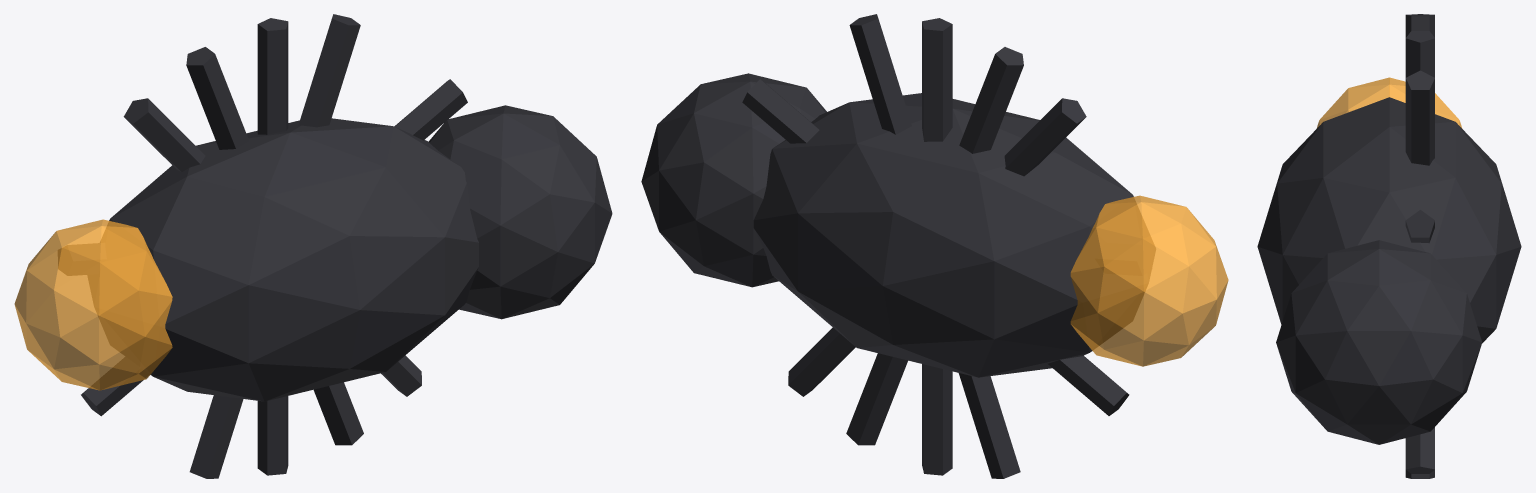
Rendered from swamp_firefly_insect.glb.
3 renders of one model, left to right at view 1: azimuth 30°, elevation 25°; view 2: azimuth 150°, elevation 25°; view 3: azimuth 270°, elevation 25°, orthographic. The views are drawn at different scales.
Parts seen in each view (by area): view 1: bug_body, bug_head, glow_abdomen, leg_0, leg_4, leg_5, leg_3, leg_1, leg_2; view 2: bug_body, bug_head, glow_abdomen, leg_0, leg_4, leg_5, leg_1, leg_3, leg_2; view 3: bug_body, bug_head, leg_4, glow_abdomen, leg_0, leg_1, leg_3, leg_5.
Part boxes in pixels (<box>): bug_body: <box>88,118,478,401</box>; bug_head: <box>428,105,612,319</box>; glow_abdomen: <box>14,219,172,390</box>; leg_0: <box>257,18,288,475</box>; leg_4: <box>189,14,360,478</box>; leg_5: <box>186,47,363,445</box>; leg_3: <box>81,79,467,416</box>; leg_1: <box>123,98,421,396</box>; leg_2: <box>58,243,106,275</box>; bug_body: <box>753,93,1155,377</box>; bug_head: <box>641,73,826,287</box>; glow_abdomen: <box>1070,195,1228,366</box>; leg_0: <box>922,18,952,475</box>; leg_4: <box>849,14,1020,478</box>; leg_5: <box>846,47,1023,445</box>; leg_1: <box>788,98,1086,396</box>; leg_3: <box>742,79,1129,415</box>; leg_2: <box>1095,243,1151,275</box>; bug_body: <box>1257,97,1521,343</box>; bug_head: <box>1276,240,1482,444</box>; leg_4: <box>1405,70,1434,165</box>; glow_abdomen: <box>1316,77,1462,128</box>; leg_0: <box>1405,31,1434,77</box>; leg_1: <box>1405,427,1434,473</box>; leg_3: <box>1405,210,1434,243</box>; leg_5: <box>1405,14,1434,478</box>.
Size of the model in its own units: 0.6 by 0.45 by 0.256.
